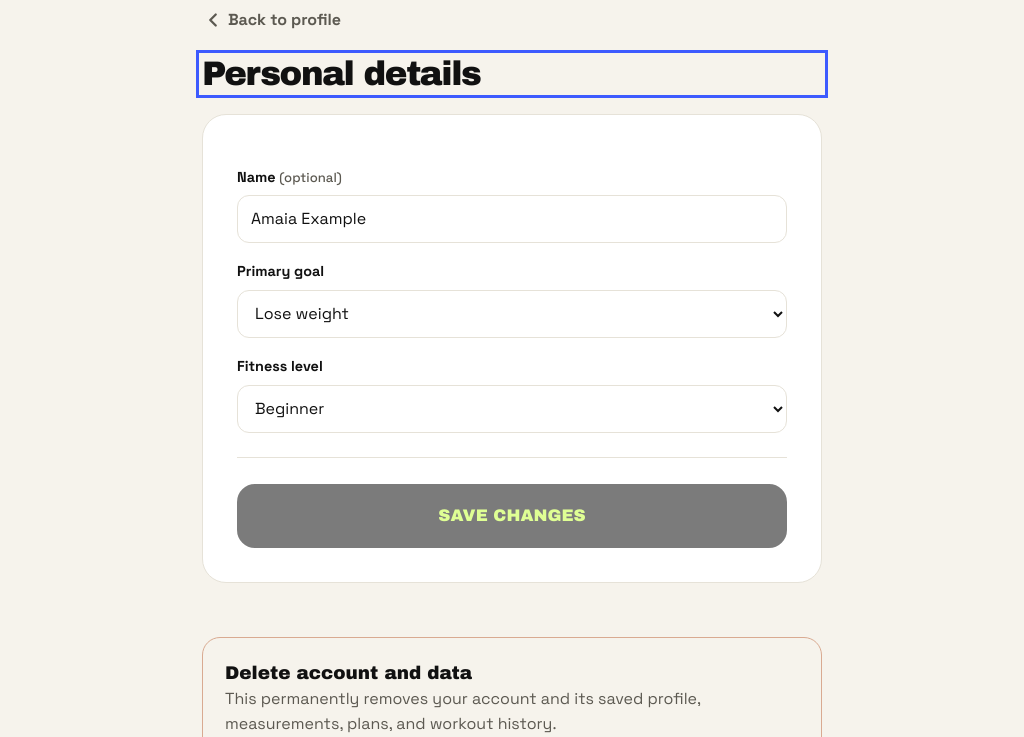
profile redesign › guards unsaved personal changes and discards them only after an explicit choice
This screenshot has width=1024, height=737.
Replace the text in the field labelled "Name (optional)" with "Amaia Changed" at (512, 219), box [237,195,787,243]
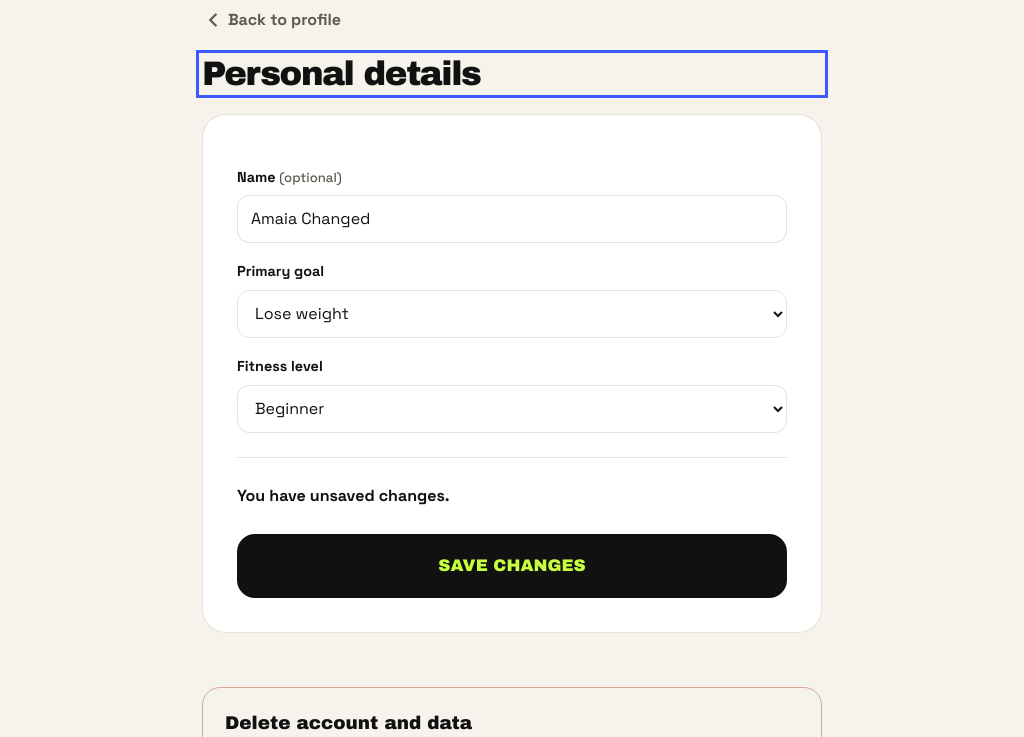
Click the link "Back to profile" at (272, 20), box [202,9,341,31]
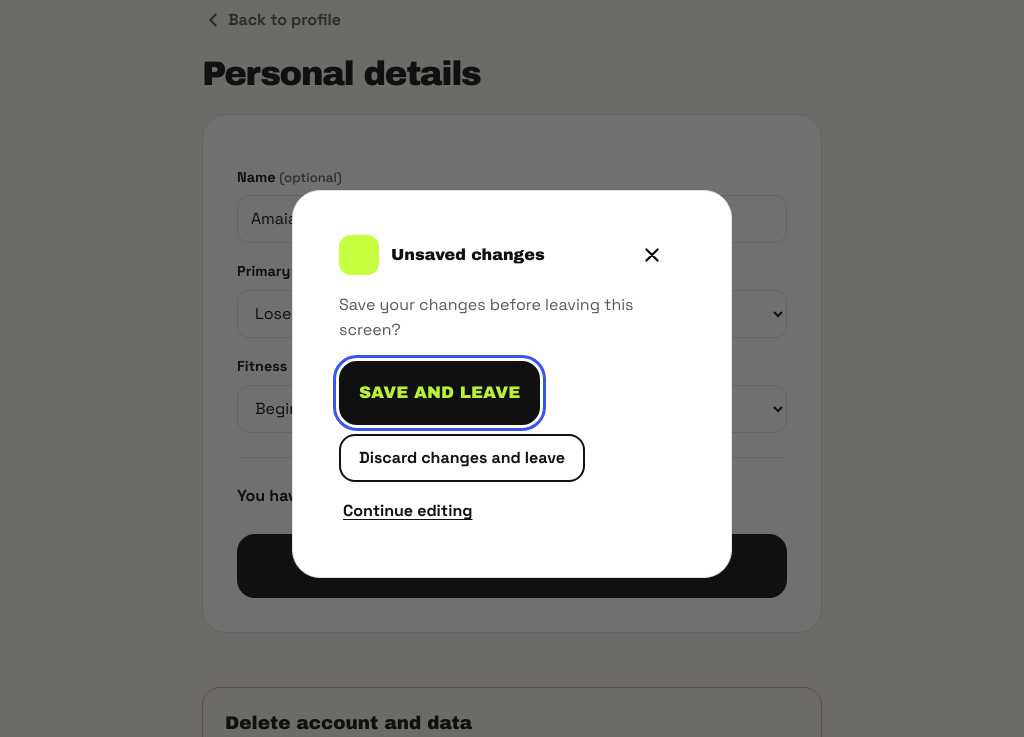
Expected: the heading "Unsaved changes" is shown, [391,243,545,267]
Click the button "Continue editing" at (408, 510), box [339,491,685,531]
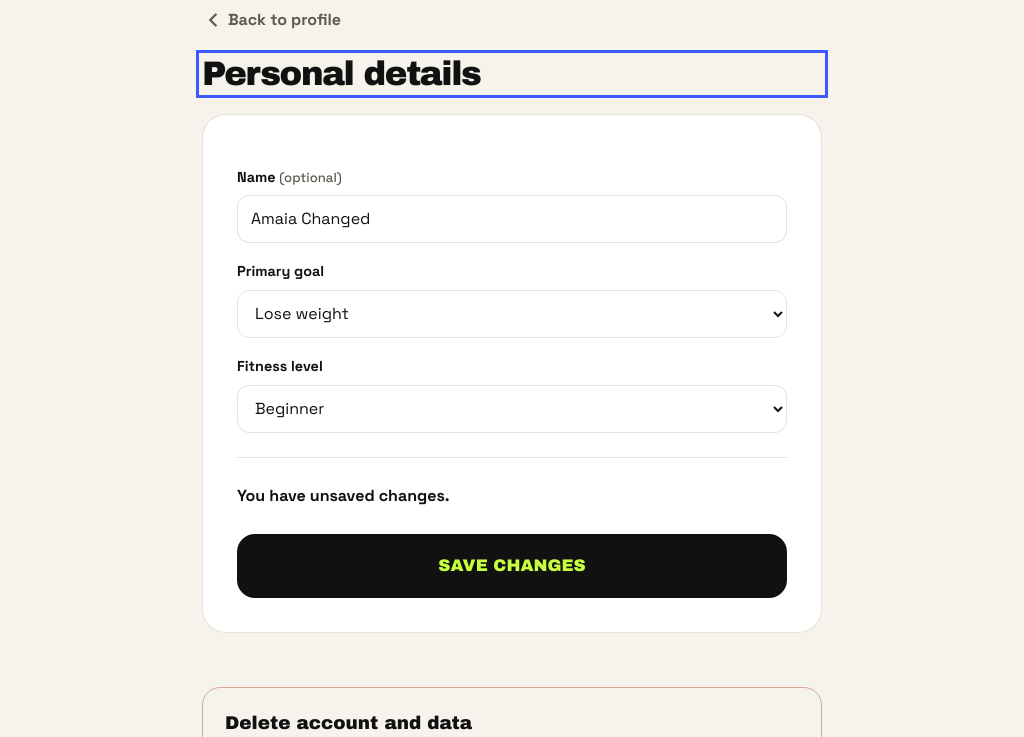
Click the link "Back to profile" at (272, 20), box [202,9,341,31]
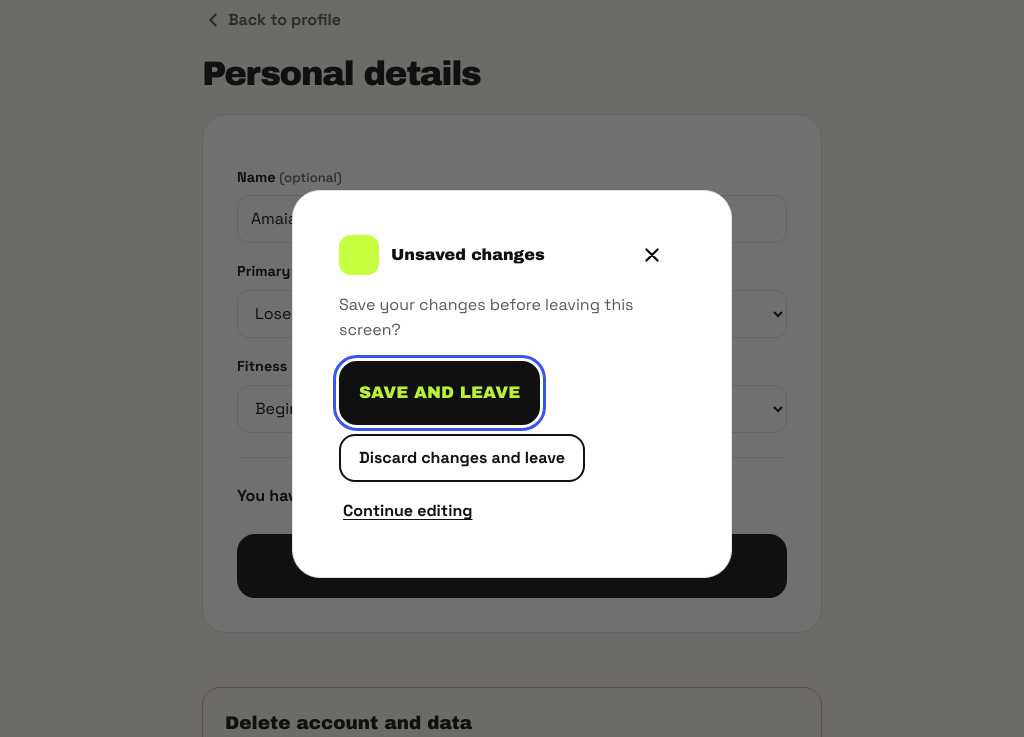
Click the button "Discard changes and leave" at (462, 458), box [339,434,585,482]
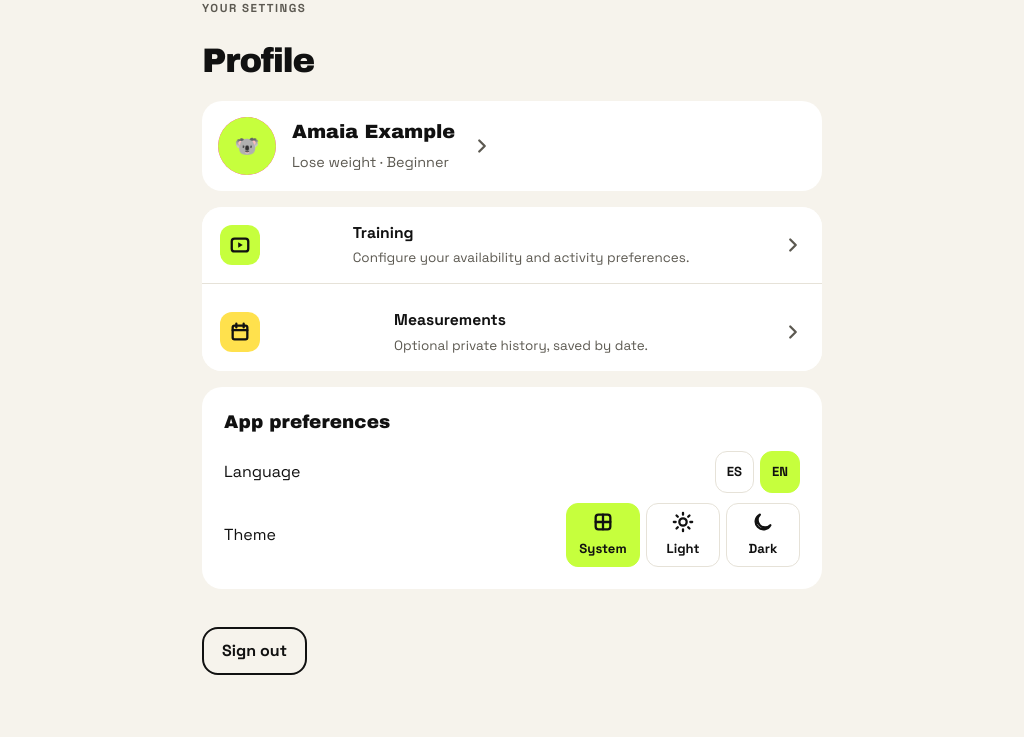
Expected: the heading "Amaia Example" is shown, [292,118,455,147]
